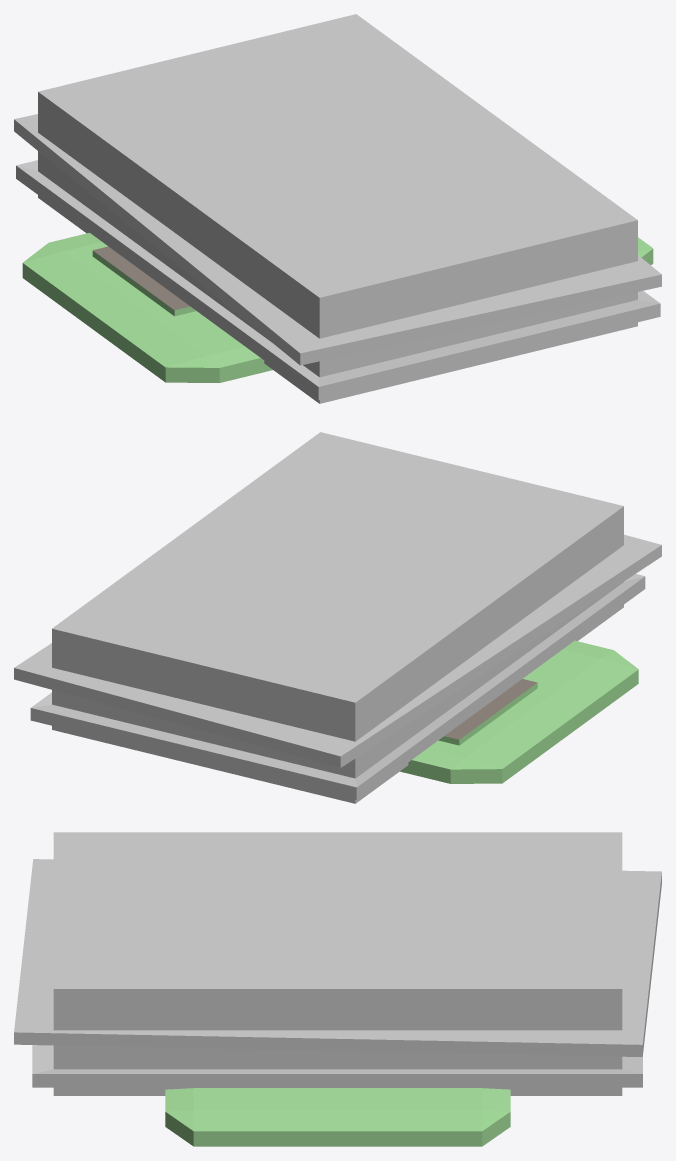
File: Window_.fbx
The picture shows the model from 3 angles, top to bottom: view 1: azimuth 30°, elevation 25°; view 2: azimuth 150°, elevation 25°; view 3: azimuth 270°, elevation 25°; orthographic projection. The views are drawn at different scales.
Parts seen in each view (by area): view 1: Cube, card; view 2: Cube, card; view 3: Cube, card.
Part boxes in pixels (bbox=[...]): Cube: bbox=[14, 14, 661, 403]; card: bbox=[22, 232, 653, 382]; Cube: bbox=[14, 432, 661, 803]; card: bbox=[400, 640, 638, 783]; Cube: bbox=[14, 832, 661, 1095]; card: bbox=[165, 1088, 510, 1146].
Bounding box in the file's own units: 200 × 45.56 × 228.
